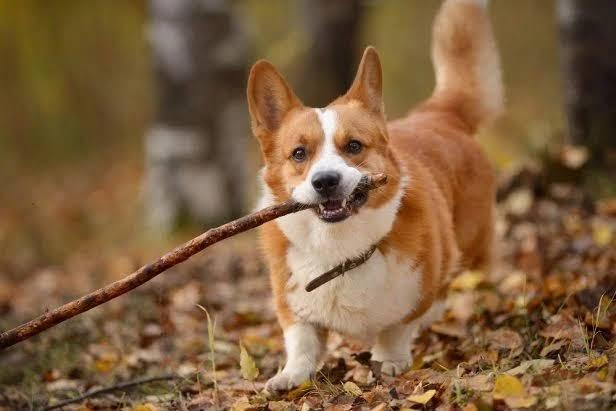adult_dog: (245, 1, 507, 396)
